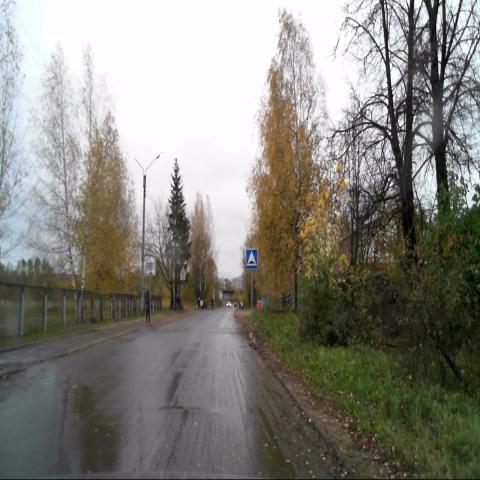5_20: (246, 249, 257, 269)
